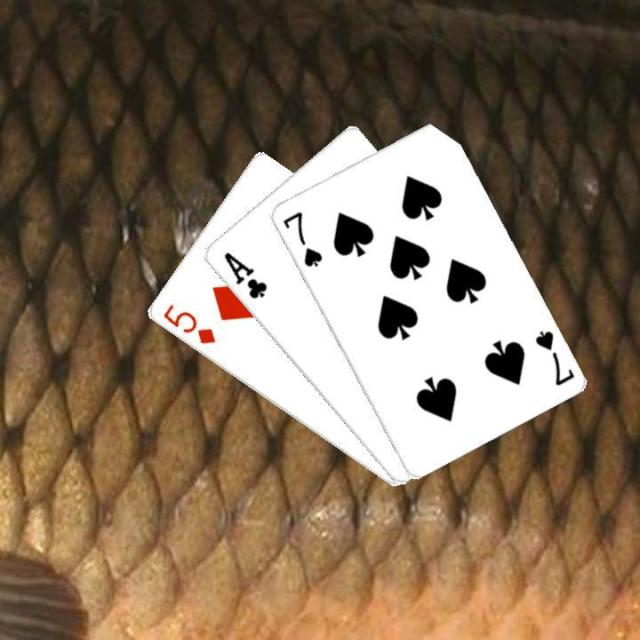5D: (158, 300, 217, 346)
7S: (278, 207, 324, 269), (530, 326, 576, 388)
AC: (220, 247, 268, 301)
